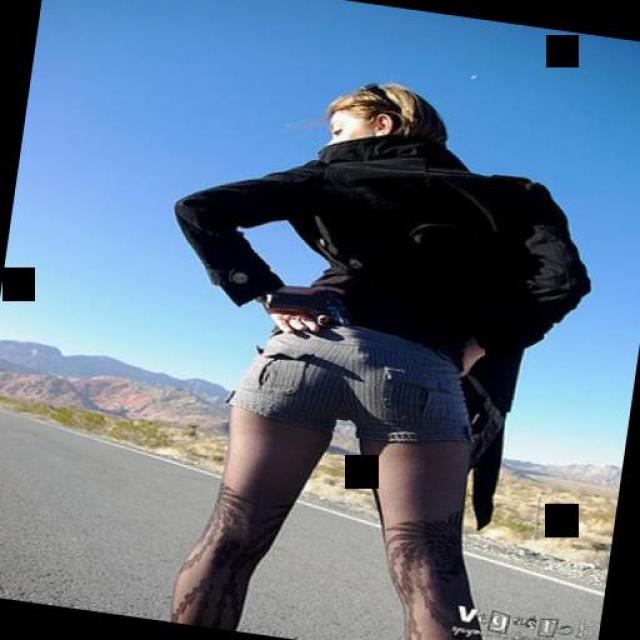gun: (259, 279, 356, 331)
